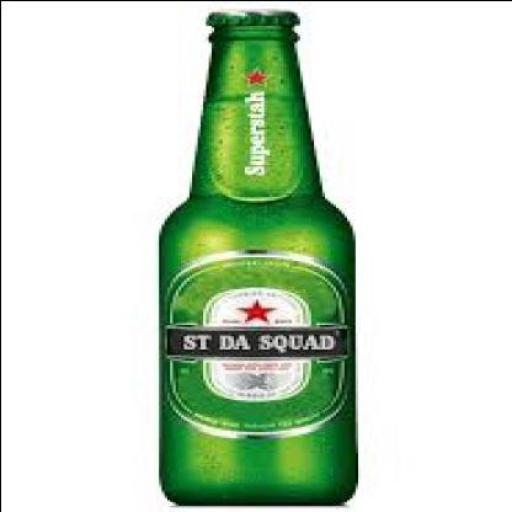glass: (152, 19, 358, 504)
metal: (205, 8, 293, 22)
